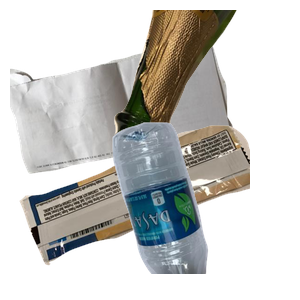glass: (111, 10, 300, 158)
paper: (10, 39, 236, 205)
plastic: (110, 120, 300, 300)
trash: (17, 123, 257, 300)
